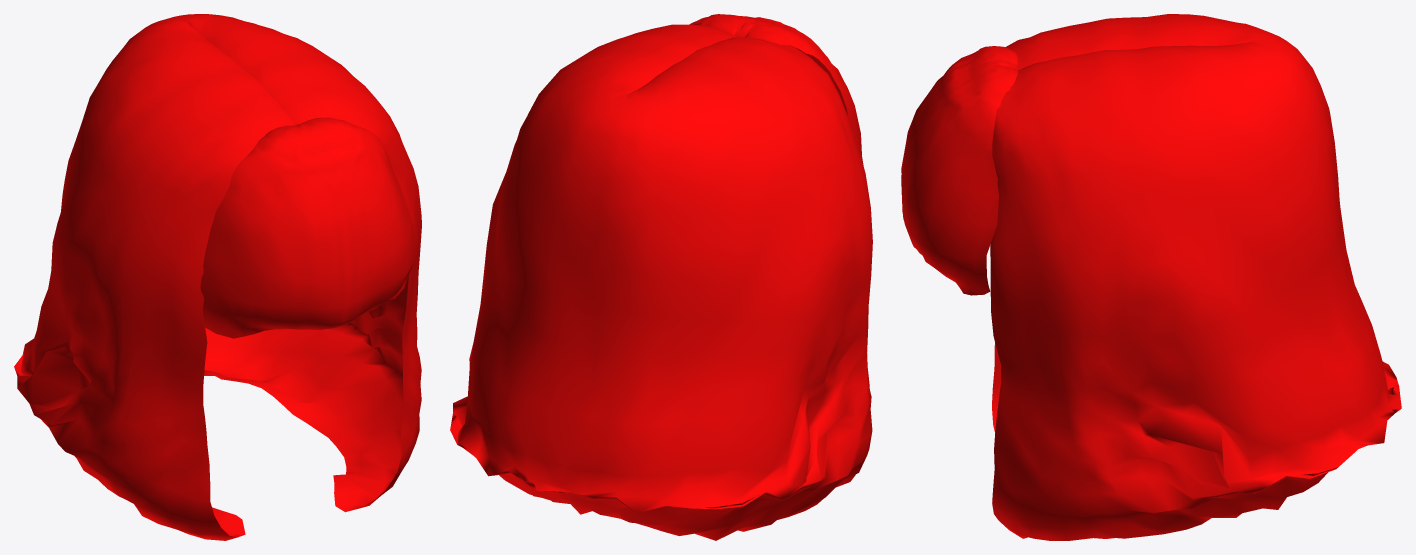
The model's file is toigo_curled_under_bob_with_bangs_F.glb.
The picture shows the model from 3 angles, left to right: view 1: azimuth 30°, elevation 25°; view 2: azimuth 150°, elevation 25°; view 3: azimuth 270°, elevation 25°; orthographic projection. The views are drawn at different scales.
Bounding box in the file's own units: 0.2027 × 0.2432 × 0.242.
Materials: 1 (1 with a texture image).
